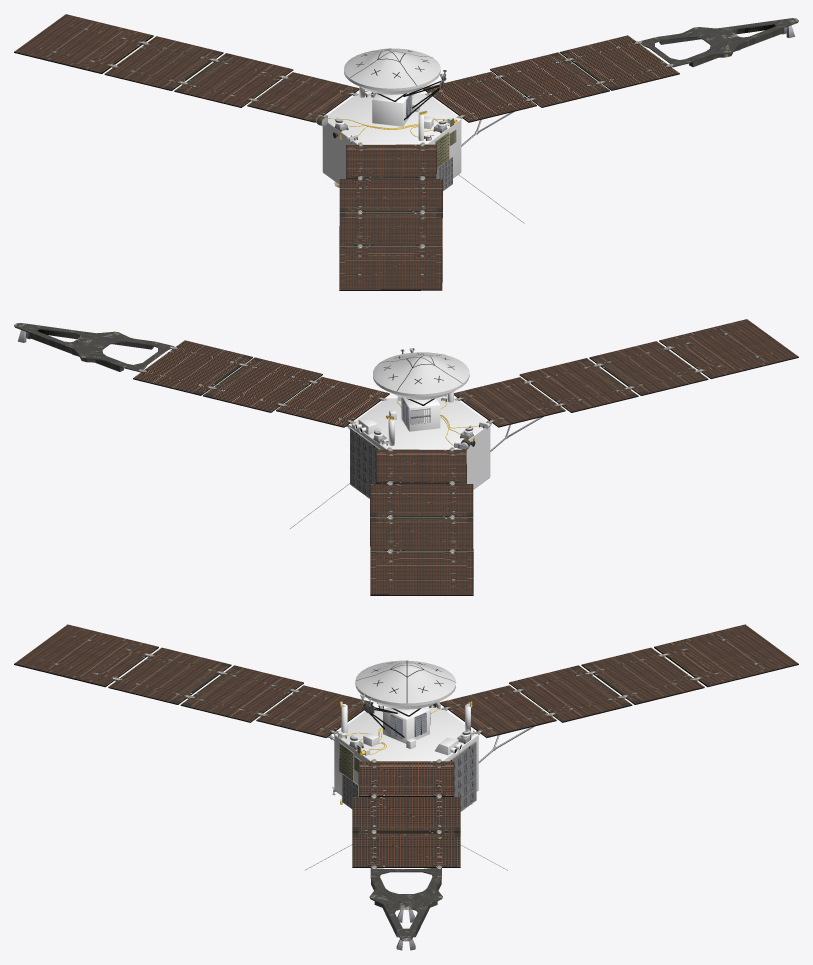
Rendered from juno.glb.
The picture shows the model from 3 angles, top to bottom: view 1: azimuth 30°, elevation 25°; view 2: azimuth 150°, elevation 25°; view 3: azimuth 270°, elevation 25°; orthographic projection. The views are drawn at different scales.
Visible parts, largest first — view 1: shiny_panels, dish_bottom, dish_top, solar_panels, silver_foil.003, black_krinkle; view 2: shiny_panels, dish_bottom, dish_top, silver_foil.003, solar_panels, black_krinkle; view 3: shiny_panels, dish_bottom, silver_foil.003, dish_top, solar_panels, black_krinkle.
Part boxes in pixels (<box>): shiny_panels: <box>14,14,679,289</box>; dish_bottom: <box>322,69,461,184</box>; dish_top: <box>344,48,440,88</box>; solar_panels: <box>639,18,798,67</box>; silver_foil.003: <box>110,25,794,247</box>; black_krinkle: <box>14,36,679,290</box>; shiny_panels: <box>133,319,798,594</box>; dish_bottom: <box>351,374,490,489</box>; dish_top: <box>373,352,469,394</box>; silver_foil.003: <box>17,330,702,552</box>; solar_panels: <box>14,323,173,371</box>; black_krinkle: <box>133,340,798,595</box>; shiny_panels: <box>14,624,798,866</box>; dish_bottom: <box>334,682,478,800</box>; silver_foil.003: <box>112,653,699,950</box>; dish_top: <box>355,660,455,703</box>; solar_panels: <box>369,868,442,941</box>; black_krinkle: <box>14,647,798,867</box>.
Size of what is drawn, in the model's own units: 17.65 by 4.26 by 18.54.
Materials: 13 (7 with a texture image).
